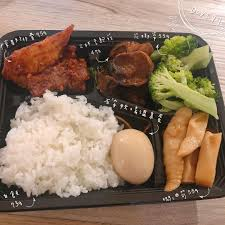rice: (15, 104, 106, 184)
